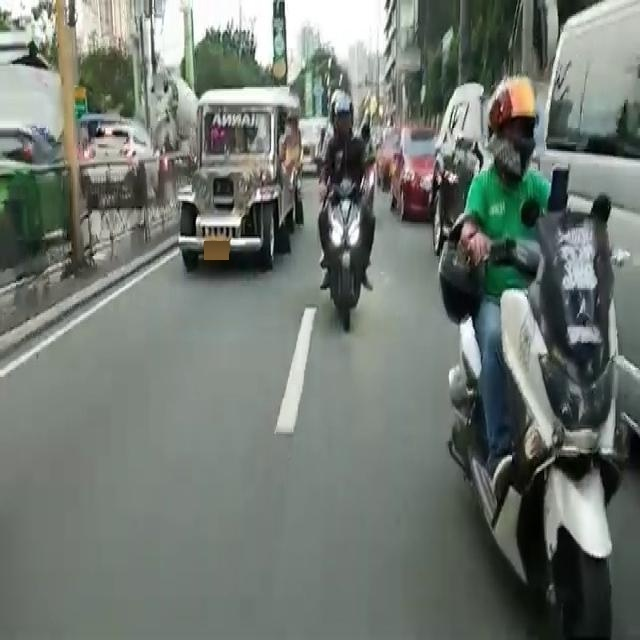car: (76, 129, 164, 236), (0, 144, 66, 252), (389, 121, 435, 235)
jeepney: (174, 84, 316, 284)
motorcycle: (446, 112, 600, 602), (317, 104, 363, 353)
